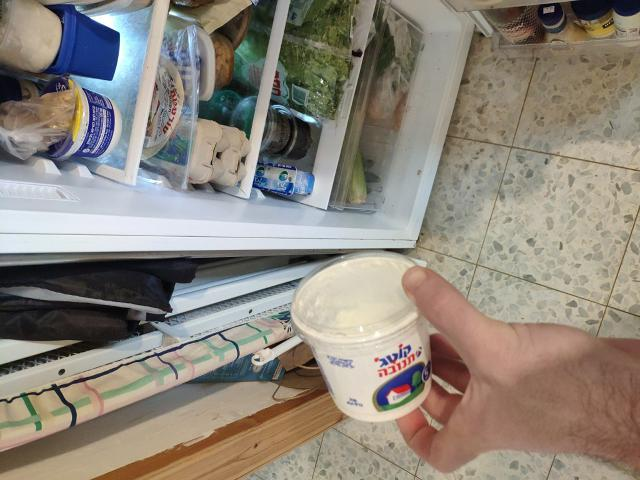cotage: (279, 282, 446, 422)
